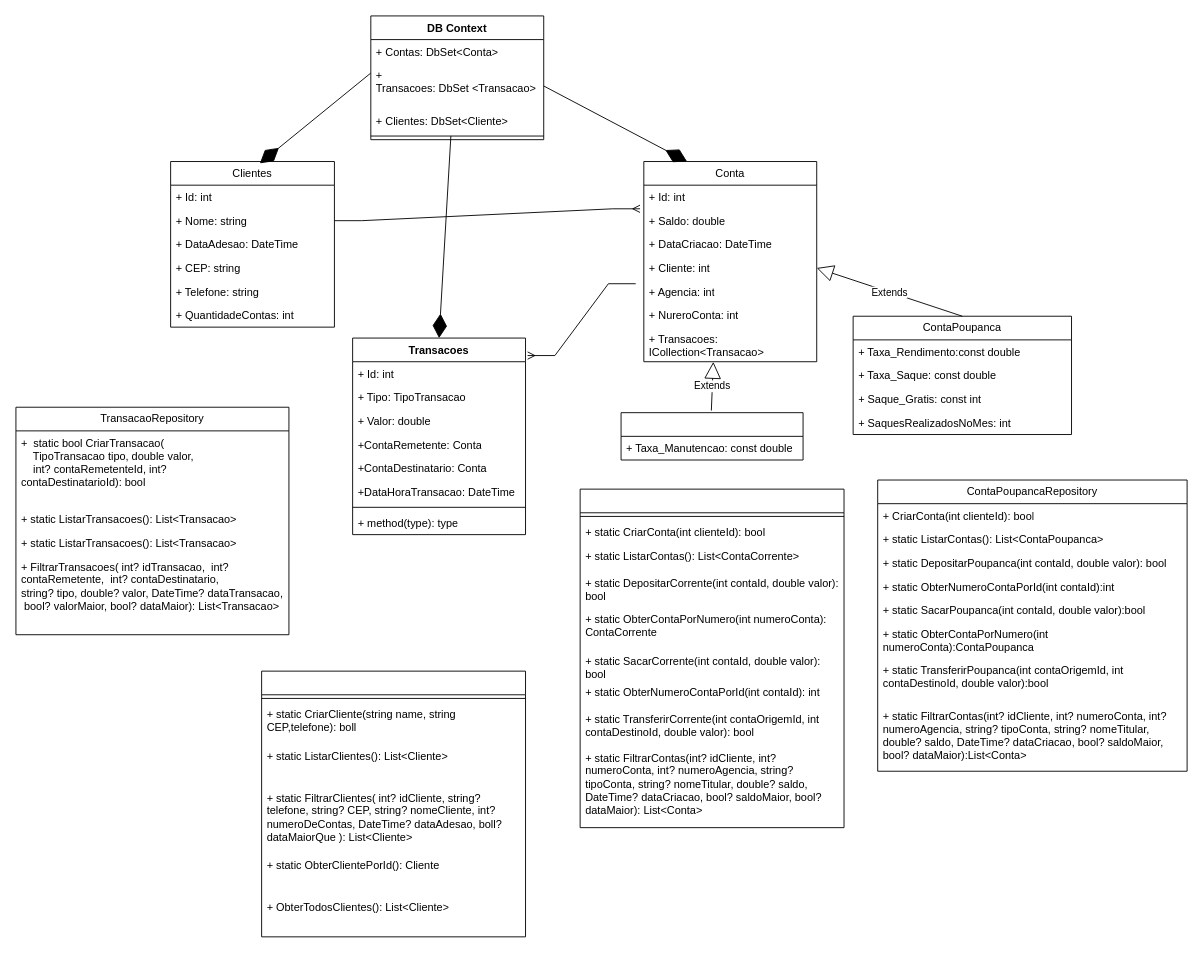
The diagram is 1203 pixels wide and 956 high, and some of its shapes have lost their labels. The box of each missing label's shape, as (x1, y1, x2, y2) in pixels:
ClienteRepository: (261, 670, 526, 937)
ContaCorrente: (620, 412, 803, 460)
ContaCorrenteRepository: (579, 488, 844, 828)
